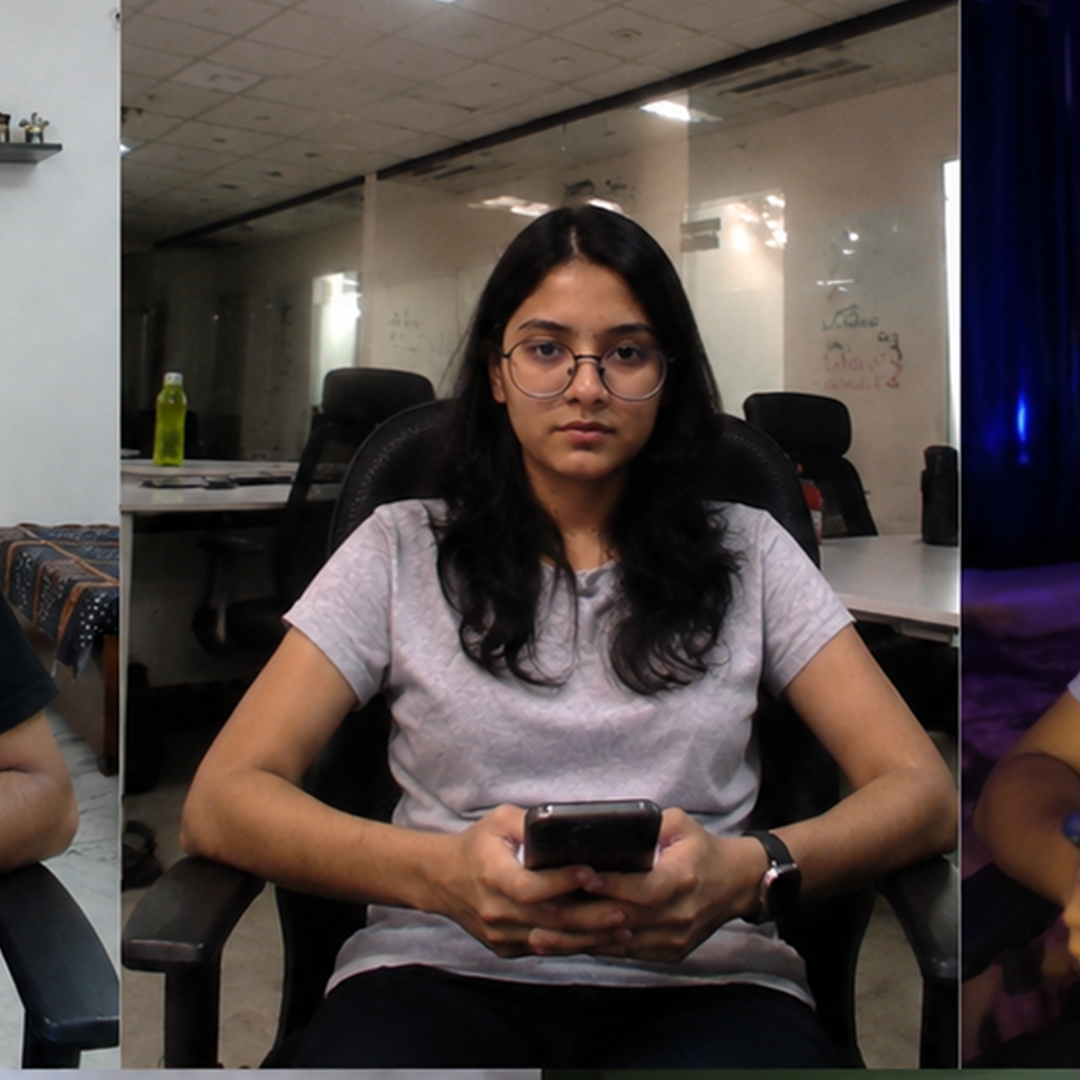Focused: (370, 140, 835, 919)
